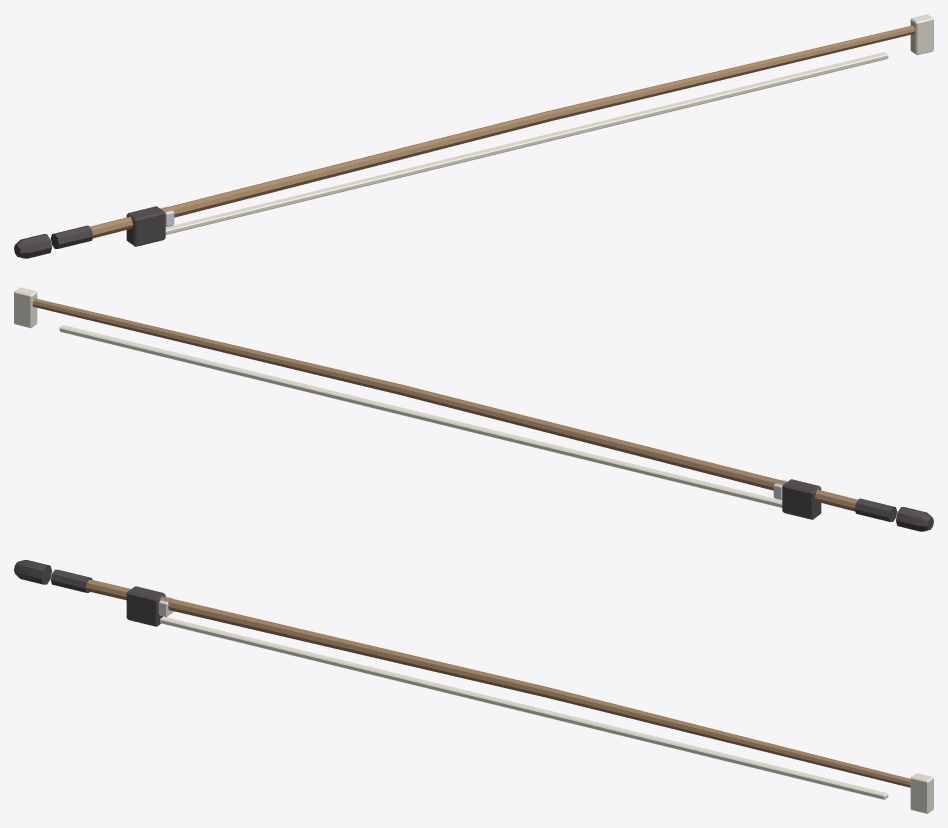
The model's file is orchestra-and-band-instruments-violin-bow-2453a8b8__39283.glb.
3 views of the same model, one above another, from view 1: azimuth 30°, elevation 25°; view 2: azimuth 150°, elevation 25°; view 3: azimuth 330°, elevation 25° (orthographic).
Parts seen in each view (by area): view 1: violin-bow; view 2: violin-bow; view 3: violin-bow.
Boxes of the visible parts, box(x1,y1,x2,y2) form: violin-bow: box(14, 14, 933, 258); violin-bow: box(14, 287, 933, 531); violin-bow: box(14, 560, 933, 813).
Bounding box in the file's own units: 0.802 × 0.028 × 0.016.
